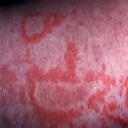Hives: (33, 46, 83, 121), (96, 81, 125, 122), (18, 16, 57, 41)
